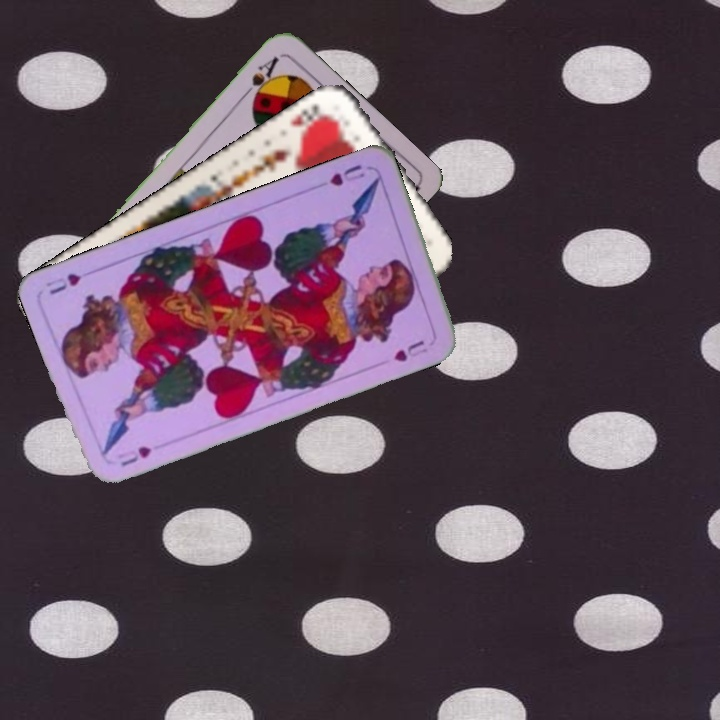HK: (285, 98, 335, 139)
HU: (326, 160, 368, 189), (113, 442, 154, 469)
SA: (239, 52, 282, 105)
